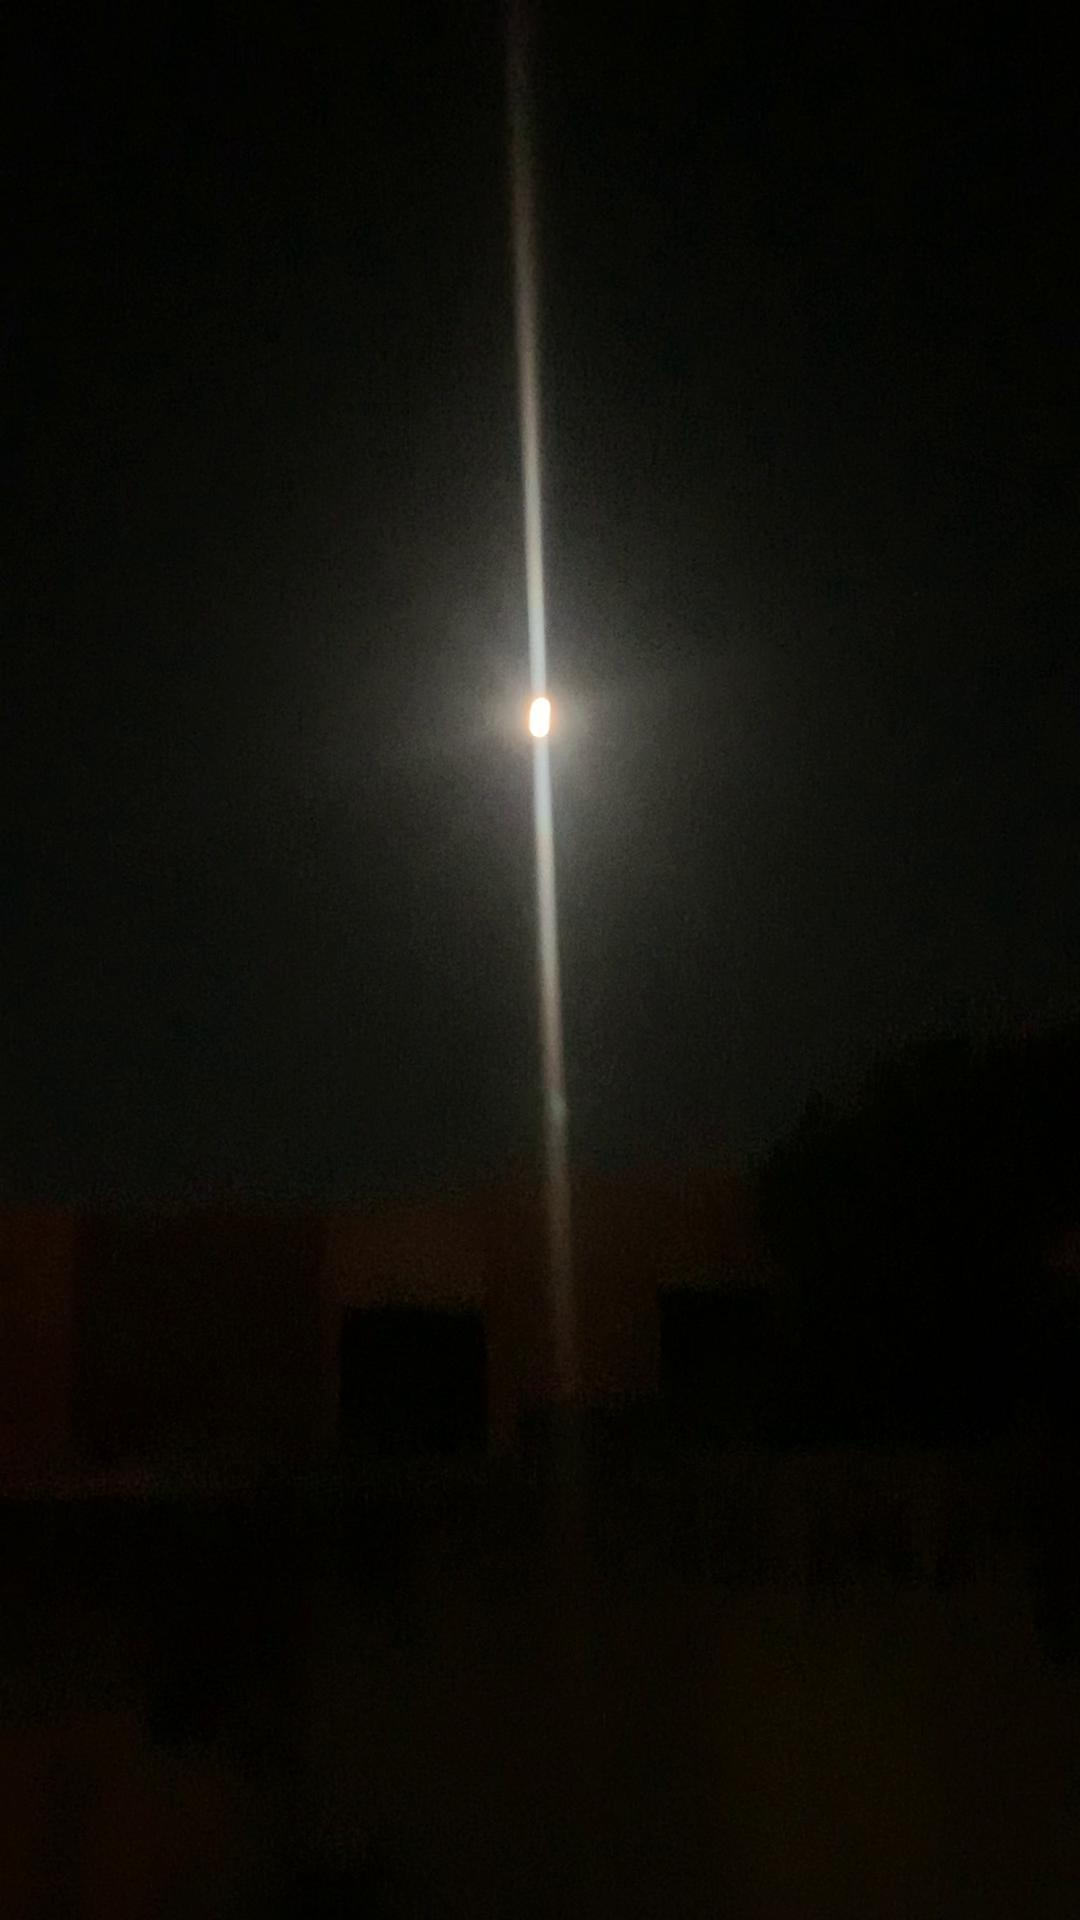moon: (509, 694, 584, 771)
